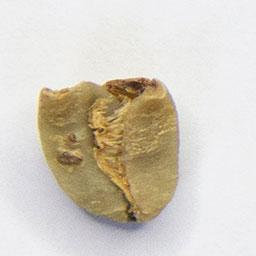defect: (35, 75, 183, 226)
